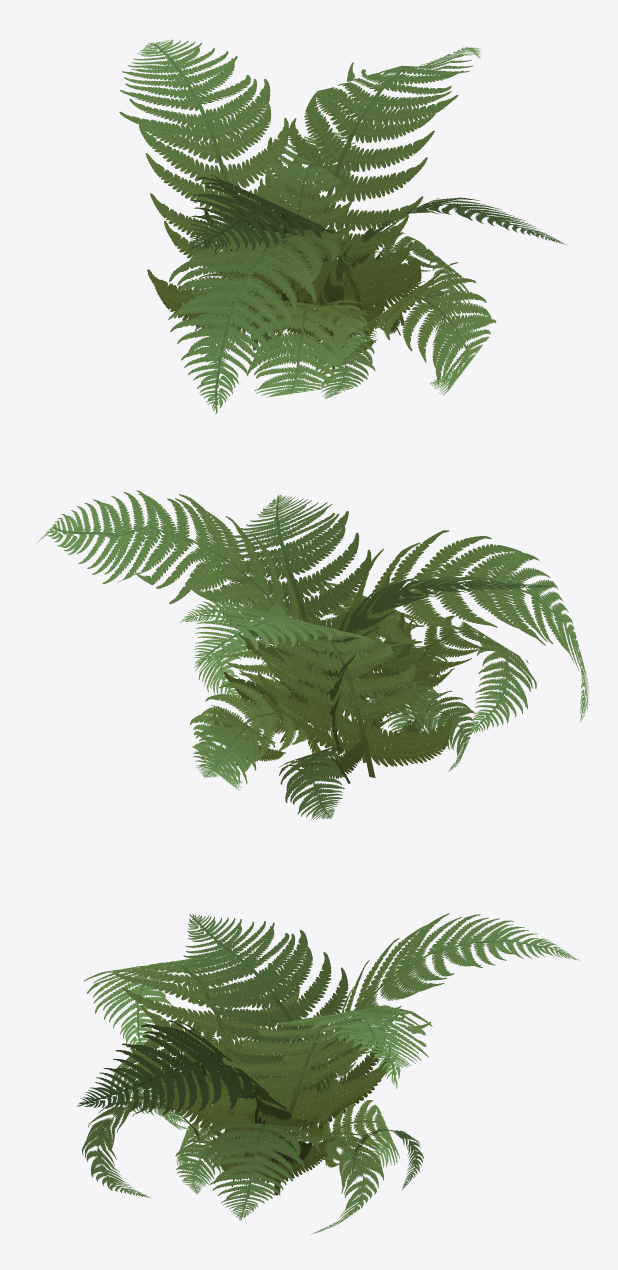
File: kt_ti_small_fern.fbx
The picture shows the model from 3 angles, top to bottom: view 1: azimuth 30°, elevation 25°; view 2: azimuth 150°, elevation 25°; view 3: azimuth 270°, elevation 25°; orthographic projection. The views are drawn at different scales.
Visible parts, largest first — view 1: polySurface52; view 2: polySurface52; view 3: polySurface52.
Part boxes in pixels (bbox=[...]): polySurface52: bbox=[119, 39, 566, 414]; polySurface52: bbox=[36, 490, 589, 819]; polySurface52: bbox=[76, 913, 579, 1234].
Size of the model in its own units: 67.12 by 34.22 by 67.15.
Materials: 1 (1 with a texture image).
